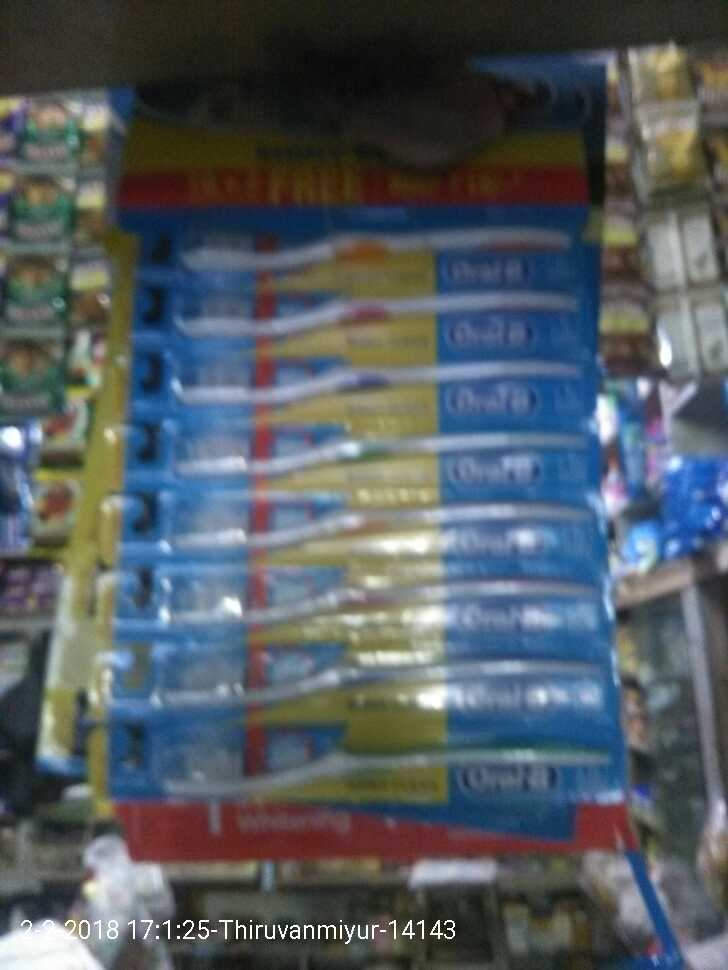oralb: (161, 719, 611, 818), (145, 638, 631, 713), (150, 552, 600, 629), (173, 412, 600, 487), (167, 205, 575, 271), (173, 277, 581, 343), (169, 342, 577, 408), (140, 496, 609, 552)
